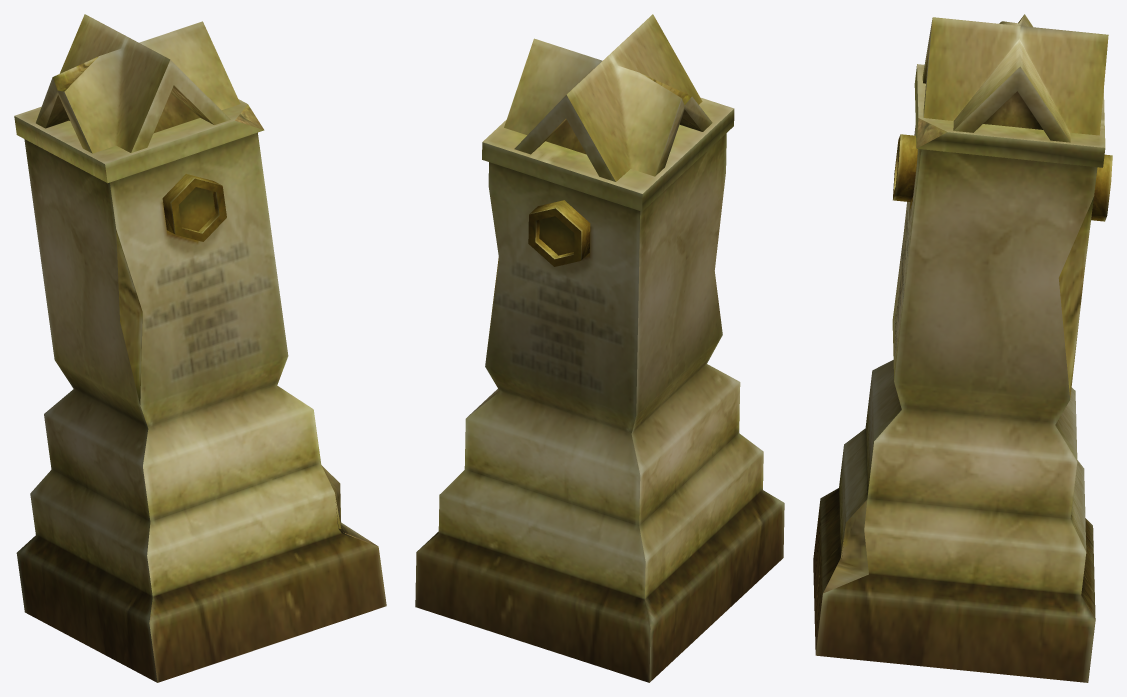
The model's file is a_SWCtomb03.glb.
The picture shows the model from 3 angles, left to right: view 1: azimuth 30°, elevation 25°; view 2: azimuth 150°, elevation 25°; view 3: azimuth 270°, elevation 25°; orthographic projection. The views are drawn at different scales.
Parts seen in each view (by area): view 1: a_SWCtomb03; view 2: a_SWCtomb03; view 3: a_SWCtomb03.
Boxes of the visible parts, x1,y1,x2,y2 form: a_SWCtomb03: (14,14,386,682); a_SWCtomb03: (415,14,784,682); a_SWCtomb03: (813,14,1112,682).
Size of the model in its own units: 1.17 by 2.82 by 1.26.
1 material, 1 textured.
